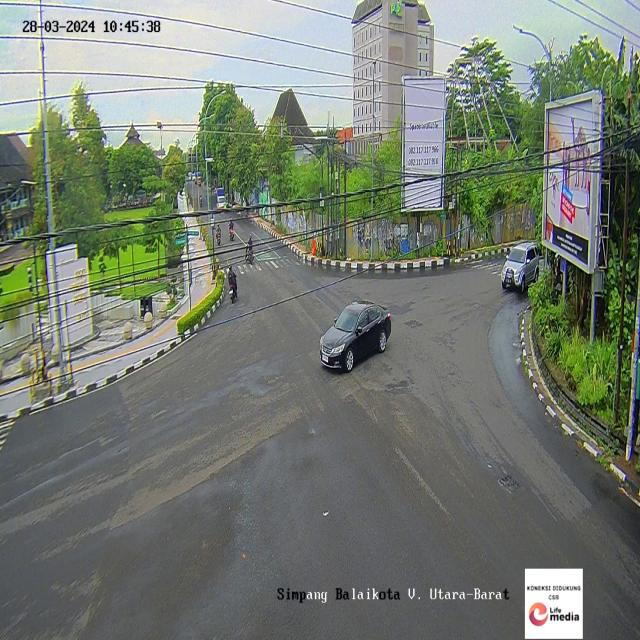car: (320, 300, 394, 373), (501, 243, 541, 295)
motorcycle: (228, 263, 240, 303), (246, 234, 254, 264), (227, 215, 235, 240), (216, 223, 222, 246)
